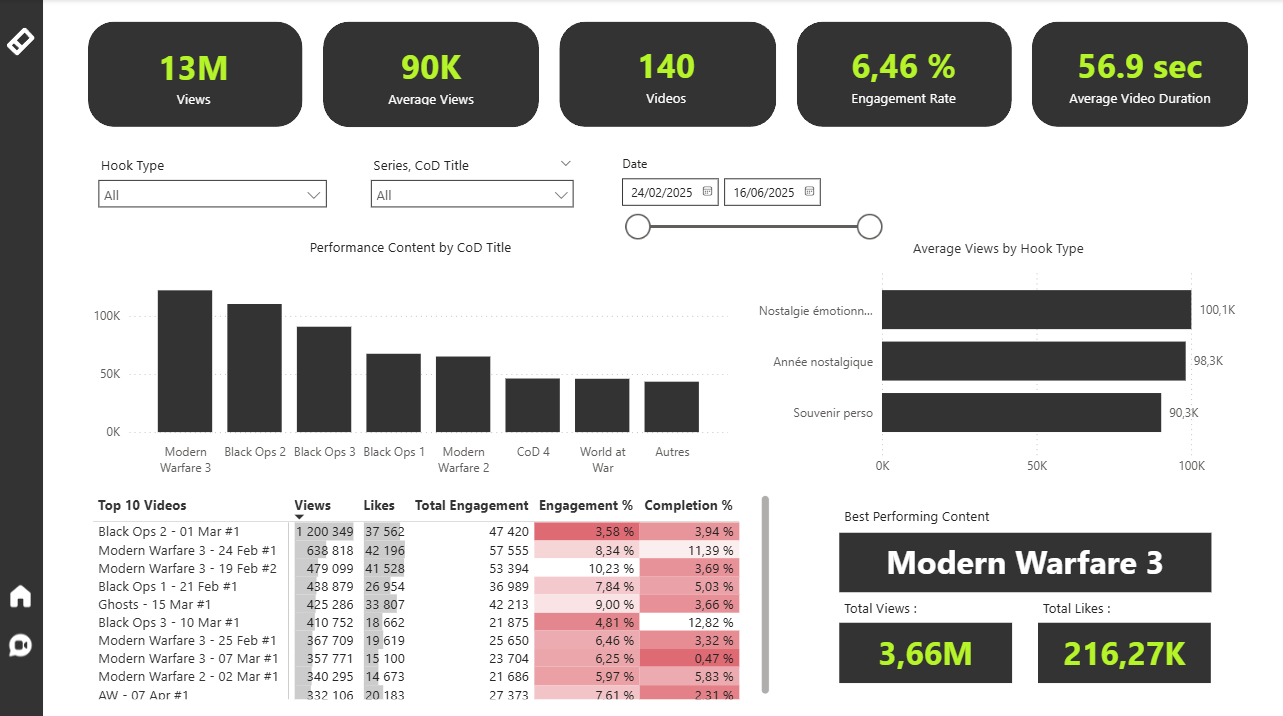

This screenshot's page, from the dashboard's own definition file:
{"tool":"powerbi","page":{"name":"Content Strategy Insights","canvas":[1280,720],"ordinal":1},"visuals":[{"type":"shape","box":[1028.7,22.8,215.4,105],"z":0,"group":"g1"},{"type":"barChart","title":"Average Views by Hook Type","fields":{"Category":["Fact Videos.hook_type"],"Y":["Measures Fact Videos.Average Views (Videos)"]},"box":[739,238.5,513.2,243.9],"z":0},{"type":"textbox","box":[836.9,500.3,250.6,31.2],"z":0,"group":"g2"},{"type":"group","id":"g1","title":"KPIs Backgrounds","box":[322.8,22.8,921.2,105.2],"z":1000},{"type":"shape","box":[794.3,22.8,214.1,105],"z":1000,"group":"g1"},{"type":"card","fields":{"Values":["Measures Fact Videos.Total Video Views"]},"box":[836.9,621.1,172.4,59.7],"z":1000,"group":"g2"},{"type":"shape","title":"Left Nav Background","box":[0,0,45,720],"z":2000},{"type":"shape","box":[558.1,22.8,216,105],"z":2000,"group":"g1"},{"type":"textbox","box":[1034.3,592.5,153.2,31.2],"z":2000,"group":"g2"},{"type":"shape","box":[89,22.8,213.6,105],"z":3000},{"type":"shape","box":[322.8,22.8,215,105.2],"z":3000,"group":"g1"},{"type":"textbox","box":[837.3,592.6,100.8,30.9],"z":3000,"group":"g2"},{"type":"cardVisual","fields":{"Data":["Measures Fact Videos.Engagement Rate"]},"box":[795.1,22.9,213.5,104.8],"z":4000},{"type":"card","fields":{"Values":["Min(Dimension CoD Title.CoD Title)"]},"box":[836.7,531.4,370.5,59.2],"z":4000,"group":"g2"},{"type":"cardVisual","fields":{"Data":["Measures Fact Videos.Average Views (Videos)"]},"box":[323.4,28.6,215.2,94.5],"z":5000},{"type":"card","fields":{"Values":["Measures Fact Videos.Total Videos Likes"]},"box":[1034.7,621.1,172.4,59.7],"z":5000,"group":"g2"},{"type":"cardVisual","fields":{"Data":["Measures Fact Videos.Total Videos"]},"box":[558.7,22.9,213.5,104.8],"z":6000},{"type":"cardVisual","fields":{"Data":["Measures Fact Videos.Avg Video Duration"]},"box":[1030.6,22.9,213.5,104.8],"z":7000},{"type":"cardVisual","fields":{"Data":["Measures Fact Videos.Total Video Views"]},"box":[88.3,28.6,214,95.8],"z":8000},{"type":"pivotTable","fields":{"Rows":["Fact Videos.Video Label"],"Values":["Measures Fact Videos.Total Video Views","Measures Fact Videos.Total Videos Likes","Measures Fact Videos.Total Engagement (Video)","Measures Fact Videos.Engagement Rate","Measures Fact Videos.Completion Rate (weighted)"]},"box":[88.9,489.2,683.8,212.6],"z":9000},{"type":"clusteredColumnChart","title":"Avrage Views by CoD Title","fields":{"Category":["Dimension CoD Title.CoD Title"],"Y":["Measures Fact Videos.Average Views (Videos)"]},"box":[88.9,238,642.1,244.6],"z":10000},{"type":"slicer","fields":{"Values":["Dimension Hook Type.Hook Type"]},"box":[88.9,150.1,247.4,72.3],"z":11000},{"type":"group","id":"g2","title":"Perfoming content card","box":[836.7,500.3,369.7,180.7],"z":12000},{"type":"slicer","fields":{"Values":["Dimension CoD Title.Series","Dimension CoD Title.CoD Title"]},"box":[360.9,150.1,222.4,72.3],"z":13000},{"type":"slicer","fields":{"Values":["Dimension Date.Start of Week"]},"box":[607.7,150.2,280.2,94.7],"z":14000},{"type":"actionButton","box":[4.5,22.7,35.4,39.9],"z":15000},{"type":"actionButton","box":[5,574.7,34.8,39.8],"z":15001},{"type":"actionButton","box":[5,623.2,34.8,39.8],"z":15002}]}

Visuals, with their boxes in screenshot pixels (x1, y1, x2, y2), scaled from the page's 1280x720 canvas onto the 1283x716 screenshot:
shape: 1031,23,1247,127
"Average Views by Hook Type" barChart: 741,237,1255,480
textbox: 839,498,1090,529
"KPIs Backgrounds" group: 324,23,1247,127
shape: 796,23,1011,127
card - Measures Fact Videos.Total Video Views: 839,618,1012,677
"Left Nav Background" shape: 0,0,45,715
shape: 559,23,776,127
textbox: 1037,589,1190,620
shape: 89,23,303,127
shape: 324,23,539,127
textbox: 839,589,940,620
cardVisual - Measures Fact Videos.Engagement Rate: 797,23,1011,127
card - Min(Dimension CoD Title.CoD Title): 839,528,1210,587
cardVisual - Measures Fact Videos.Average Views (Videos): 324,28,540,122
card - Measures Fact Videos.Total Videos Likes: 1037,618,1210,677
cardVisual - Measures Fact Videos.Total Videos: 560,23,774,127
cardVisual - Measures Fact Videos.Avg Video Duration: 1033,23,1247,127
cardVisual - Measures Fact Videos.Total Video Views: 89,28,303,124
pivotTable - Fact Videos.Video Label x Measures Fact Videos.Total Video Views: 89,486,775,698
"Avrage Views by CoD Title" clusteredColumnChart: 89,237,733,480
slicer - Dimension Hook Type.Hook Type: 89,149,337,221
"Perfoming content card" group: 839,498,1209,677
slicer - Dimension CoD Title.Series x Dimension CoD Title.CoD Title: 362,149,585,221
slicer - Dimension Date.Start of Week: 609,149,890,244
actionButton: 5,23,40,62
actionButton: 5,572,40,611
actionButton: 5,620,40,659
